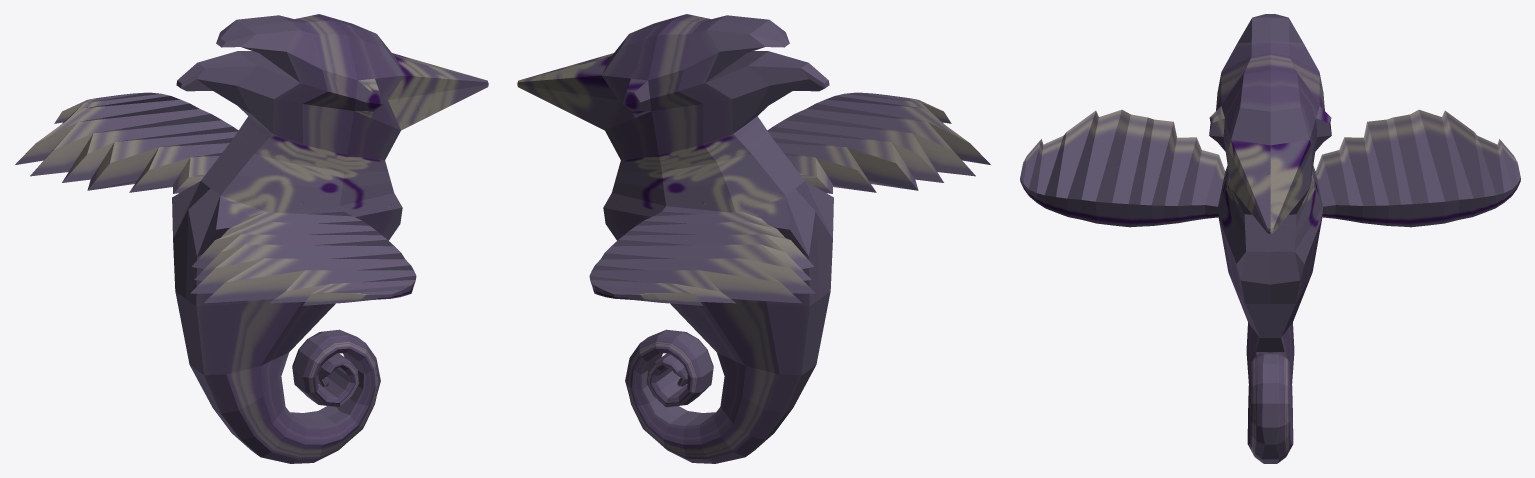
File: bird.fbx
3 renders of one model, left to right at view 1: azimuth 30°, elevation 25°; view 2: azimuth 150°, elevation 25°; view 3: azimuth 270°, elevation 25°, orthographic. The views are drawn at different scales.
Parts seen in each view (by area): view 1: Plane; view 2: Plane; view 3: Plane.
Boxes of the visible parts, x1,y1,x2,y2 form: Plane: [15, 14, 488, 463]; Plane: [517, 14, 990, 463]; Plane: [1020, 14, 1520, 463].
Bounding box in the file's own units: 351 × 395 × 436.
